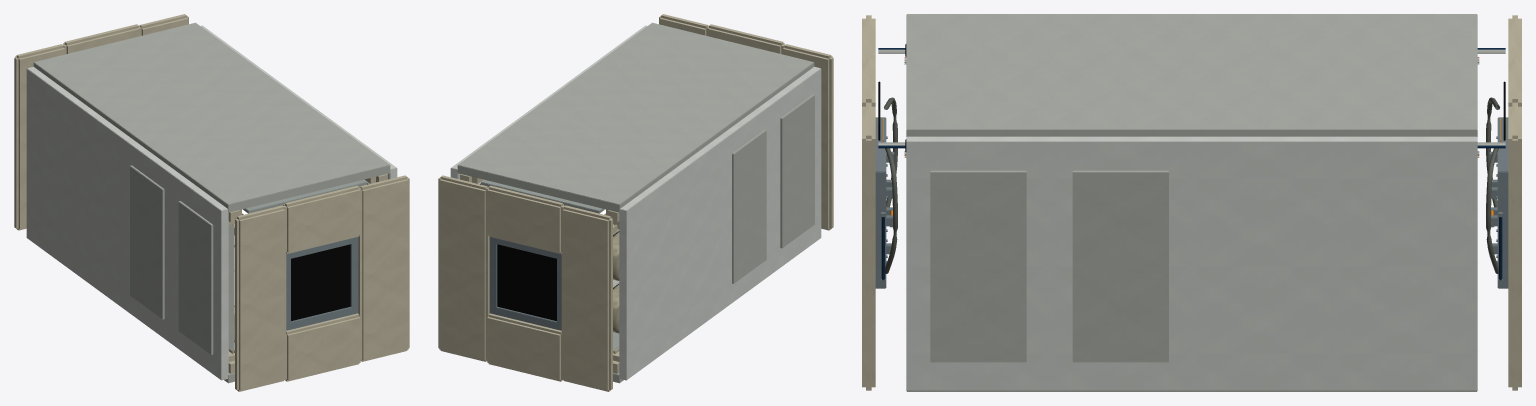
The model's file is harmony.glb.
3 renders of one model, left to right at view 1: azimuth 30°, elevation 25°; view 2: azimuth 150°, elevation 25°; view 3: azimuth 270°, elevation 25°, orthographic. The views are drawn at different scales.
Parts seen in each view (by area): view 1: harmony_detailed; view 2: harmony_detailed; view 3: harmony_detailed.
Part boxes in pixels (x1=…): harmony_detailed: x1=14, y1=14, x2=409, y2=391; harmony_detailed: x1=438, y1=14, x2=833, y2=391; harmony_detailed: x1=862, y1=14, x2=1521, y2=391.
Size of the model in its own units: 3.16 by 3 by 6.84.
17 materials, 14 textured.
